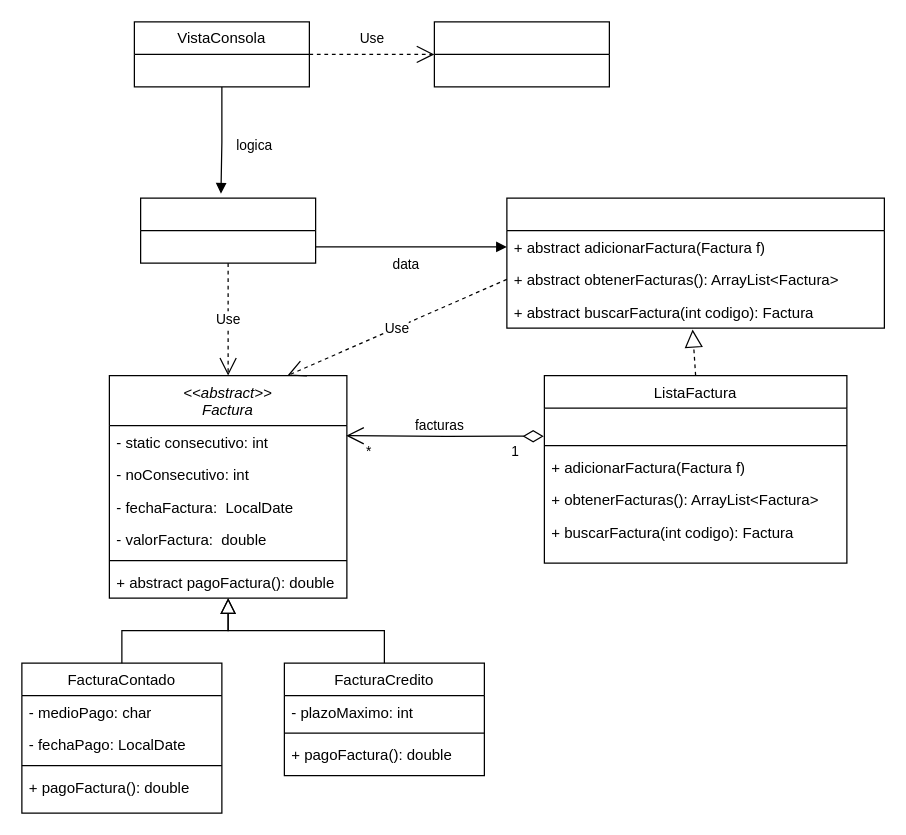
This 906x835 diagram has some shape labels left out. Here are the shapes that lost their labels. From the top down, the box of each, then its label:
(433, 21, 609, 87): Entrada
(139, 197, 316, 263): LogicaFactura
(506, 197, 884, 328): <<interface>> IFactura
